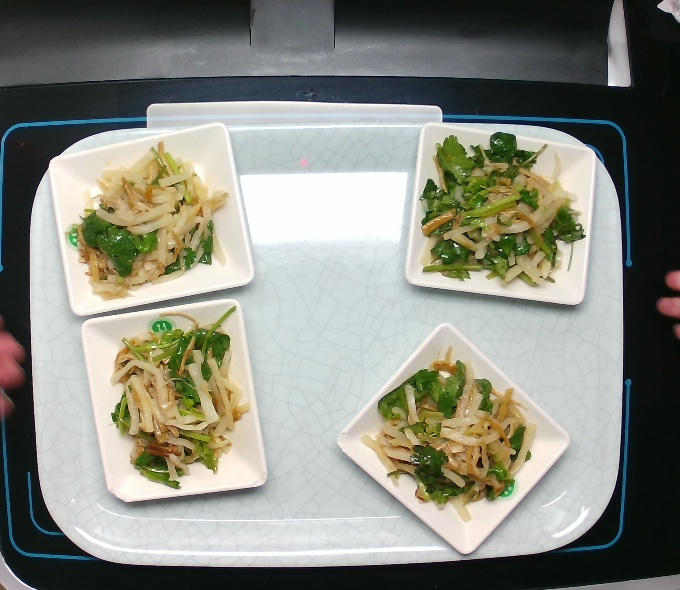wcq-LiangBanJinZhenGu: (410, 125, 590, 301), (362, 343, 540, 516), (108, 308, 251, 490), (68, 138, 230, 297)
